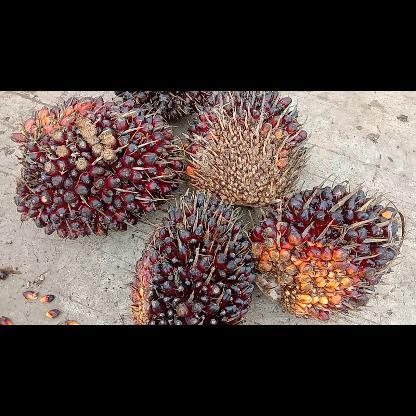TBS mentah: (10, 97, 184, 239), (248, 174, 406, 324), (127, 188, 255, 324), (183, 91, 313, 207), (113, 91, 212, 117)
